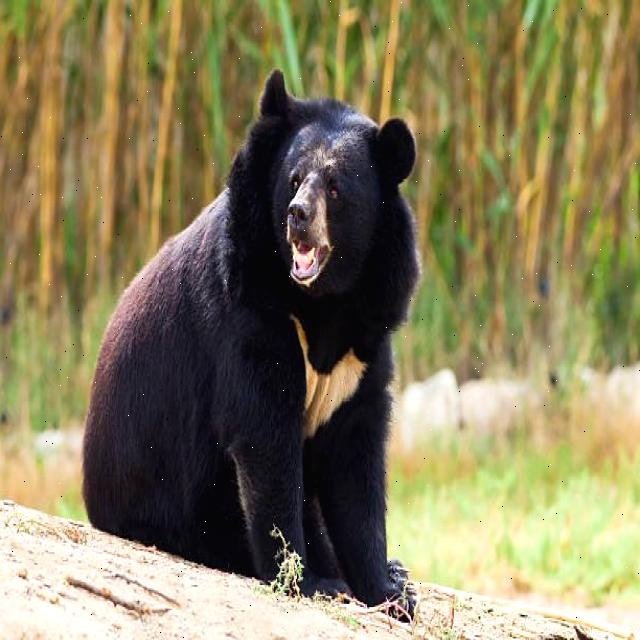bear: (89, 46, 428, 558)
